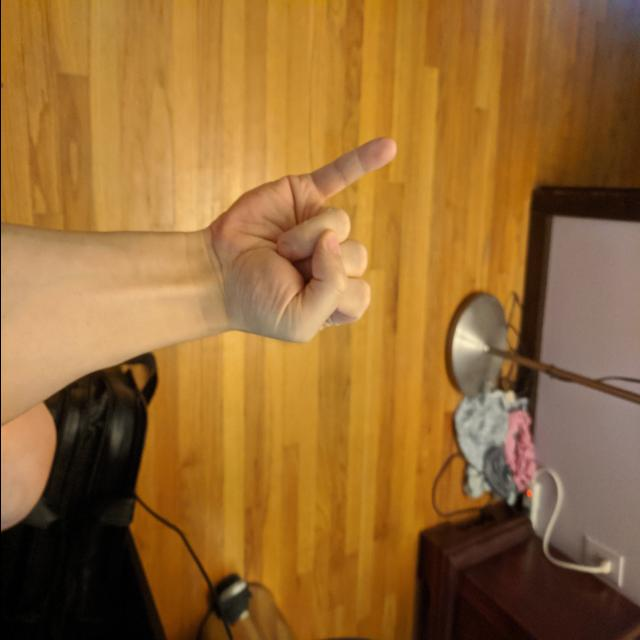I: (202, 130, 400, 350)
